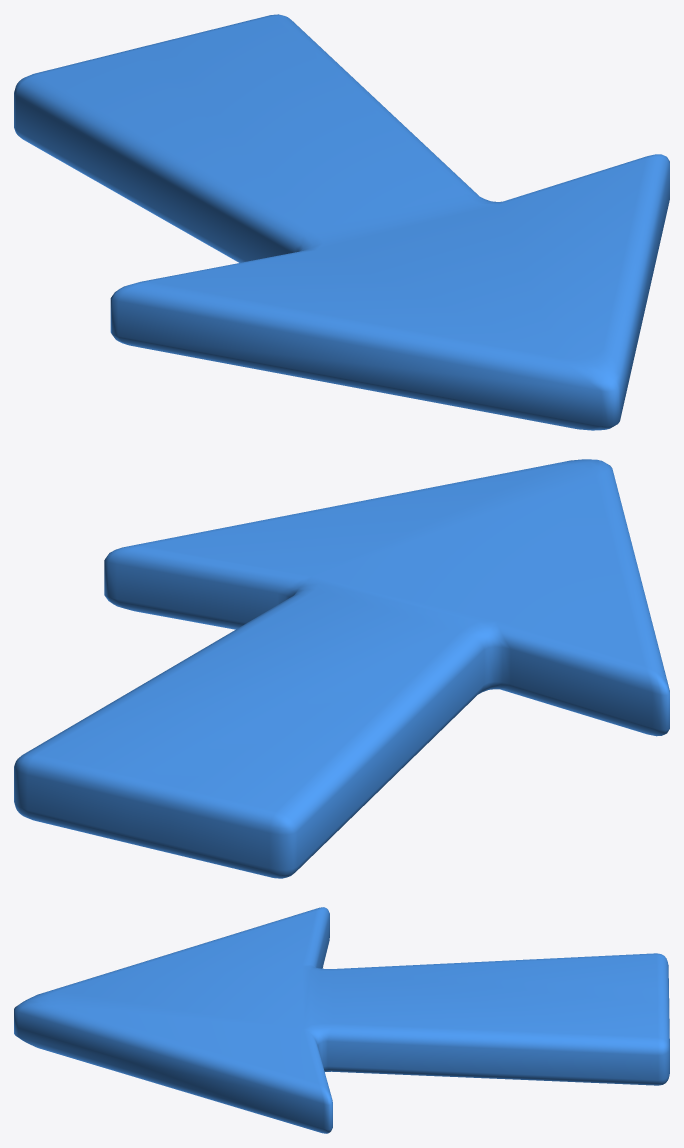
The model's file is direction_arrow3.glb.
3 renders of one model, top to bottom at view 1: azimuth 30°, elevation 25°; view 2: azimuth 150°, elevation 25°; view 3: azimuth 270°, elevation 25°, orthographic. The views are drawn at different scales.
Visible parts, largest first — view 1: Arrow; view 2: Arrow; view 3: Arrow.
Part boxes in pixels (bbox=[...]): Arrow: bbox=[14, 14, 669, 430]; Arrow: bbox=[14, 459, 669, 878]; Arrow: bbox=[14, 907, 669, 1133].
Bounding box in the file's own units: 2.11 × 0.2343 × 3.01.
